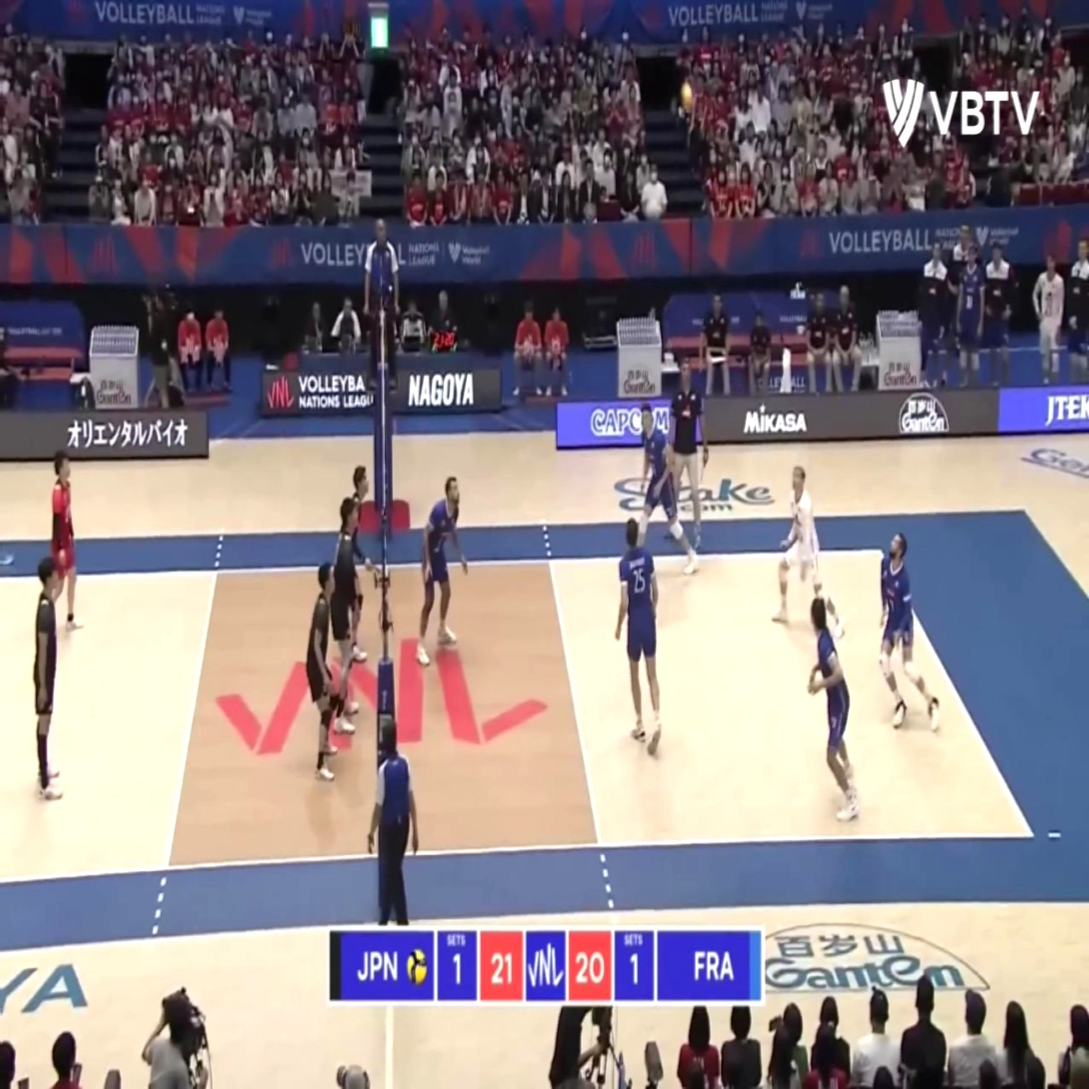ball: (678, 81, 697, 114)
